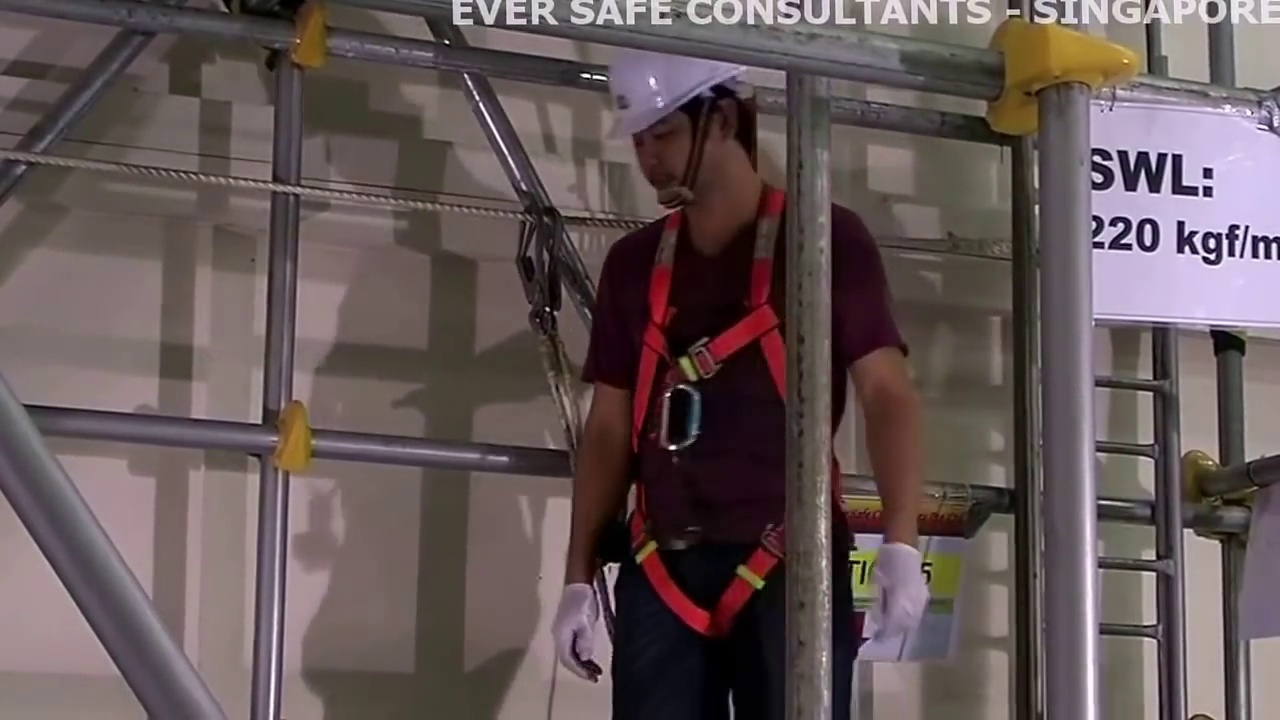harness: (644, 222, 783, 610)
helmet: (610, 48, 744, 118)
hook: (517, 198, 562, 308)
leash: (527, 333, 579, 444)
